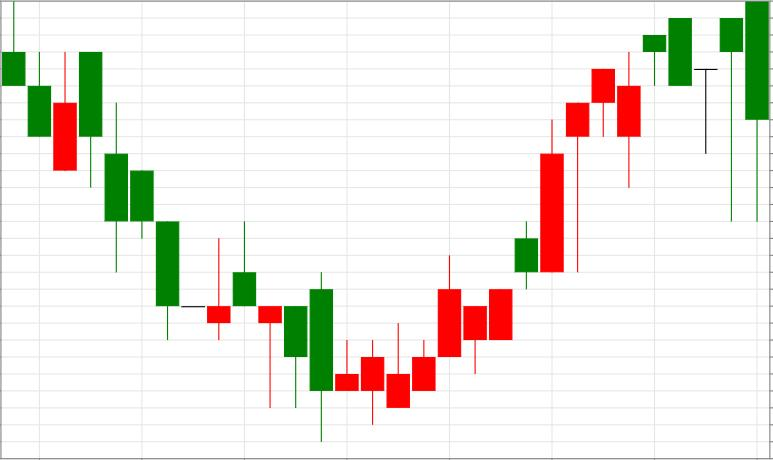hanging_man_fall: (387, 104, 588, 409)
